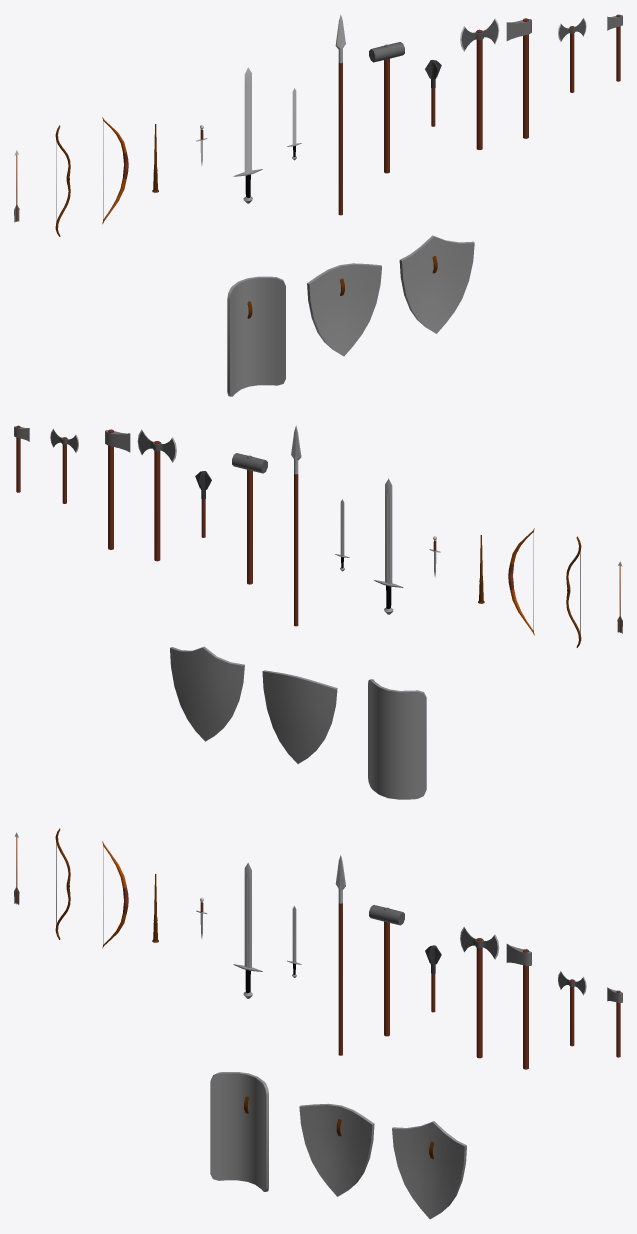
File: simple_low_poly_weapon_pack.glb
3 views of the same model, one above another, from view 1: azimuth 30°, elevation 25°; view 2: azimuth 150°, elevation 25°; view 3: azimuth 330°, elevation 25° (orthographic).
Visible parts, largest first — view 1: Shield 3_12, Shield_10, Shield 2_11, Axe 4_3, Mace 2_9, Sword 2_15, Spear_13, Axe 3_2, Axe 2_1, Bow 2_6; view 2: Shield 3_12, Shield_10, Shield 2_11, Axe 4_3, Mace 2_9, Sword 2_15, Spear_13, Axe 3_2, Axe 2_1, Bow 2_6; view 3: Shield 3_12, Shield_10, Shield 2_11, Axe 4_3, Mace 2_9, Sword 2_15, Spear_13, Axe 3_2, Axe 2_1, Bow 2_6.
Part boxes in pixels (x1,y1,x2,y2): Shield 3_12: [227, 276, 285, 396]; Shield_10: [399, 235, 474, 333]; Shield 2_11: [307, 263, 381, 356]; Axe 4_3: [460, 18, 499, 149]; Mace 2_9: [369, 42, 404, 173]; Sword 2_15: [233, 67, 262, 203]; Spear_13: [335, 14, 345, 215]; Axe 3_2: [506, 18, 531, 138]; Axe 2_1: [558, 18, 586, 92]; Bow 2_6: [102, 117, 128, 224]; Shield 3_12: [368, 679, 426, 799]; Shield_10: [170, 646, 244, 741]; Shield 2_11: [262, 670, 337, 763]; Axe 4_3: [137, 429, 176, 561]; Mace 2_9: [232, 453, 267, 584]; Sword 2_15: [374, 478, 403, 614]; Spear_13: [291, 425, 301, 626]; Axe 3_2: [105, 429, 130, 549]; Axe 2_1: [50, 429, 78, 503]; Bow 2_6: [508, 528, 534, 635]; Shield 3_12: [210, 1072, 268, 1191]; Shield_10: [392, 1121, 466, 1219]; Shield 2_11: [299, 1103, 374, 1196]; Axe 4_3: [460, 927, 499, 1058]; Mace 2_9: [369, 905, 404, 1036]; Sword 2_15: [233, 863, 262, 998]; Spear_13: [335, 855, 345, 1055]; Axe 3_2: [506, 944, 531, 1069]; Axe 2_1: [558, 971, 586, 1046]; Bow 2_6: [102, 841, 128, 948].
Size of the model in its own units: 6.57 by 3.61 by 0.2737.
